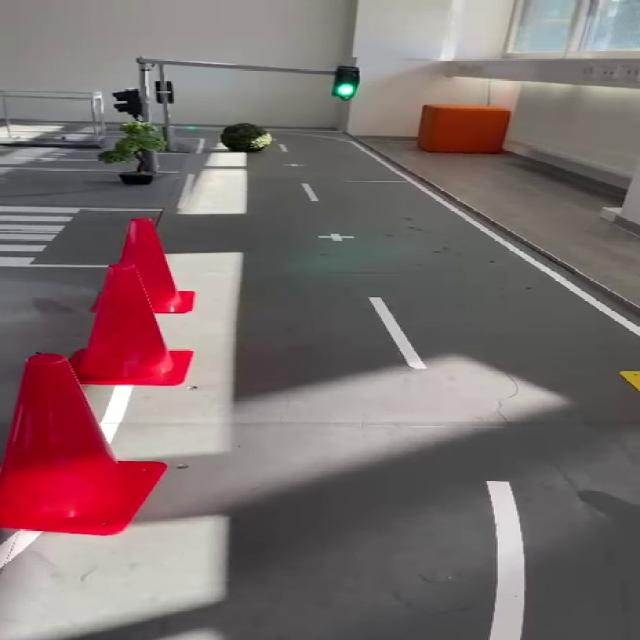Cone-red: (0, 354, 166, 535), (69, 266, 192, 385), (119, 218, 193, 313)
Cones-yellow: (621, 371, 639, 392)
